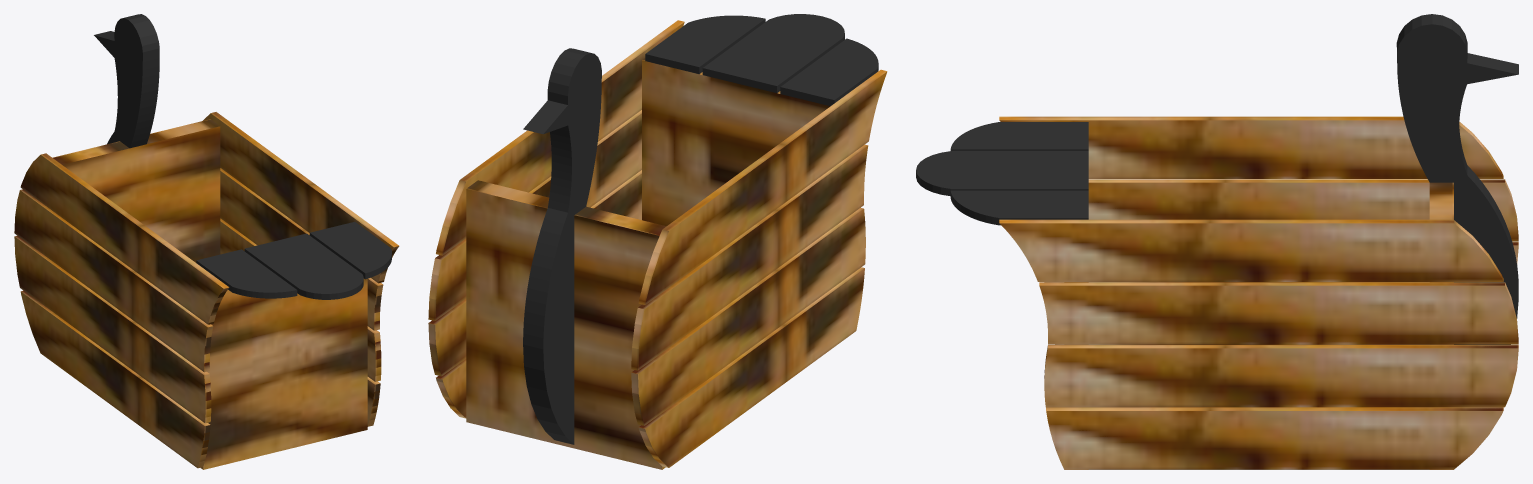
3 views of the same model, side by side, from view 1: azimuth 30°, elevation 25°; view 2: azimuth 150°, elevation 25°; view 3: azimuth 270°, elevation 25° (orthographic). The views are drawn at different scales.
Parts seen in each view (by area): view 1: mesh1.002_mesh1-geometry, mesh1.001_mesh1-geometry, mesh5.001_mesh5-geometry, mesh9.001_mesh9-geometry, mesh7.001_mesh7-geometry, mesh11.001_mesh11-geometry, mesh5.002_mesh5-geometry, mesh17.001_mesh17-geometry, mesh15.001_mesh15-geometry, mesh7.002_mesh7-geometry, mesh13.001_mesh13-geometry, mesh19.001_mesh19-geometry (+2 smaller); view 2: mesh1.001_mesh1-geometry, mesh17.001_mesh17-geometry, mesh1.002_mesh1-geometry, mesh5.001_mesh5-geometry, mesh7.001_mesh7-geometry, mesh9.001_mesh9-geometry, mesh11.001_mesh11-geometry, mesh5.002_mesh5-geometry, mesh15.001_mesh15-geometry, mesh7.002_mesh7-geometry, mesh19.001_mesh19-geometry, mesh13.001_mesh13-geometry (+2 smaller); view 3: mesh7.002_mesh7-geometry, mesh9.002_mesh9-geometry, mesh5.002_mesh5-geometry, mesh11.002_mesh11-geometry, mesh5.001_mesh5-geometry, mesh7.001_mesh7-geometry, mesh17.001_mesh17-geometry, mesh15.001_mesh15-geometry, mesh19.001_mesh19-geometry, mesh13.001_mesh13-geometry, mesh1.001_mesh1-geometry.
Boxes of the visible parts, x1,y1,x2,y2 form: mesh1.002_mesh1-geometry: [200, 278, 367, 469]; mesh1.001_mesh1-geometry: [52, 119, 220, 262]; mesh5.001_mesh5-geometry: [20, 153, 229, 324]; mesh9.001_mesh9-geometry: [14, 235, 211, 423]; mesh7.001_mesh7-geometry: [14, 189, 213, 372]; mesh11.001_mesh11-geometry: [20, 290, 210, 468]; mesh5.002_mesh5-geometry: [203, 112, 399, 283]; mesh17.001_mesh17-geometry: [94, 14, 159, 148]; mesh15.001_mesh15-geometry: [244, 233, 363, 299]; mesh7.002_mesh7-geometry: [220, 168, 383, 330]; mesh13.001_mesh13-geometry: [196, 249, 297, 298]; mesh19.001_mesh19-geometry: [309, 221, 391, 279]; mesh1.001_mesh1-geometry: [466, 180, 666, 469]; mesh17.001_mesh17-geometry: [523, 48, 601, 444]; mesh1.002_mesh1-geometry: [642, 58, 829, 226]; mesh5.001_mesh5-geometry: [638, 69, 887, 304]; mesh7.001_mesh7-geometry: [631, 144, 868, 370]; mesh9.001_mesh9-geometry: [631, 207, 865, 425]; mesh11.001_mesh11-geometry: [638, 267, 864, 467]; mesh5.002_mesh5-geometry: [436, 20, 684, 255]; mesh15.001_mesh15-geometry: [702, 14, 844, 92]; mesh7.002_mesh7-geometry: [428, 110, 641, 320]; mesh19.001_mesh19-geometry: [645, 15, 765, 74]; mesh13.001_mesh13-geometry: [780, 38, 878, 106]; mesh7.002_mesh7-geometry: [1039, 282, 1518, 344]; mesh9.002_mesh9-geometry: [1044, 345, 1518, 407]; mesh5.002_mesh5-geometry: [999, 219, 1503, 281]; mesh11.002_mesh11-geometry: [1046, 407, 1503, 469]; mesh5.001_mesh5-geometry: [999, 116, 1503, 178]; mesh7.001_mesh7-geometry: [1088, 179, 1518, 241]; mesh17.001_mesh17-geometry: [1396, 14, 1518, 344]; mesh15.001_mesh15-geometry: [916, 151, 1088, 196]; mesh19.001_mesh19-geometry: [950, 190, 1088, 225]; mesh13.001_mesh13-geometry: [950, 122, 1088, 150]; mesh1.001_mesh1-geometry: [1429, 182, 1453, 469].
Size of the model in its own units: 0.319 by 0.5608 by 0.764.
